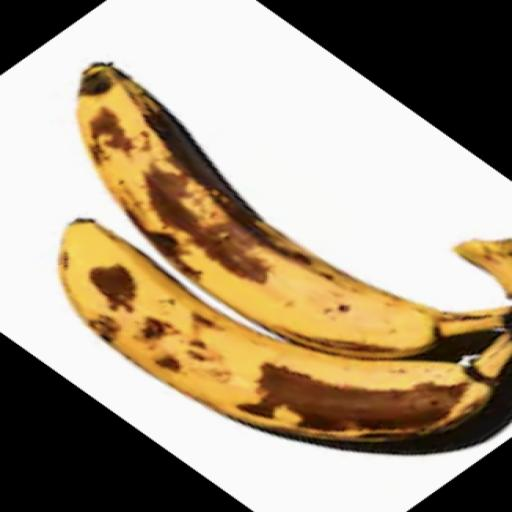banana-overripe: (27, 38, 512, 443)
